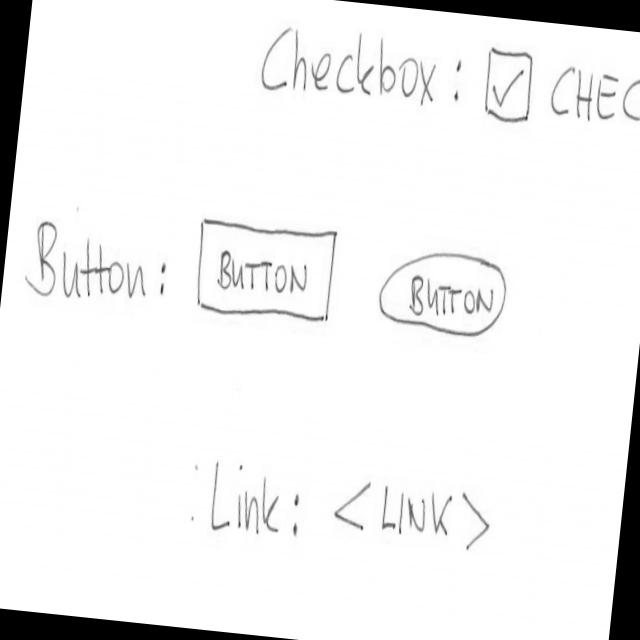button: (188, 211, 341, 332), (374, 236, 512, 346)
checkbox: (477, 40, 640, 144)
link: (328, 470, 496, 559)
